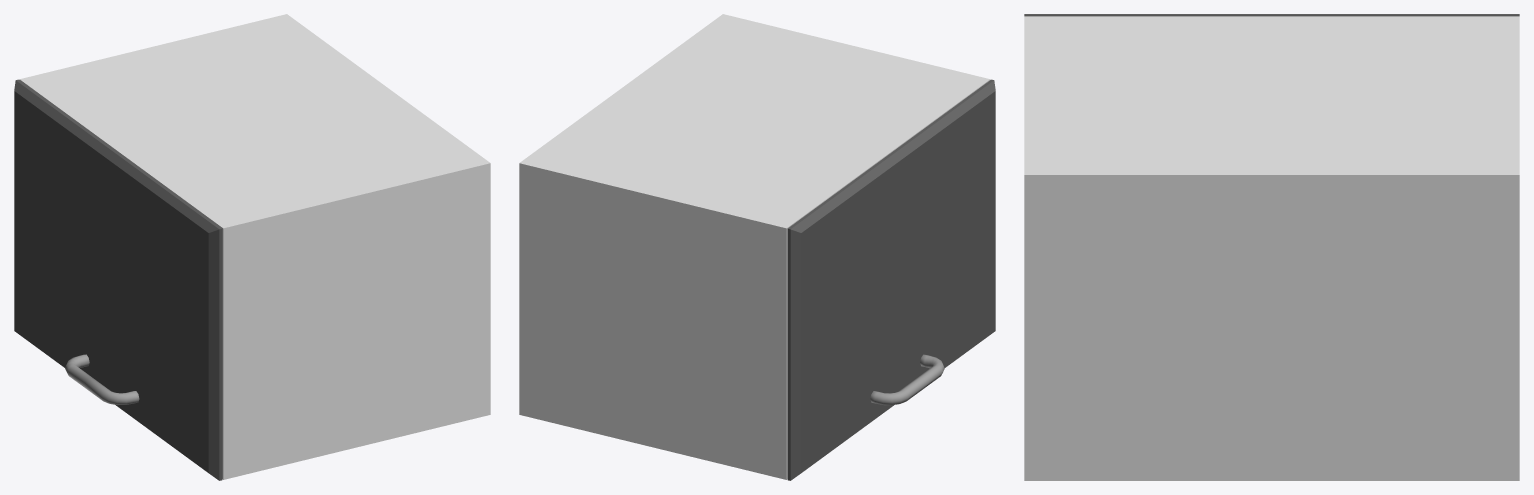
The model's file is Mutfak_Dolap_Ust_1.fbx.
3 renders of one model, left to right at view 1: azimuth 30°, elevation 25°; view 2: azimuth 150°, elevation 25°; view 3: azimuth 270°, elevation 25°, orthographic. The views are drawn at different scales.
Visible parts, largest first — view 1: Cube.003; view 2: Cube.003; view 3: Cube.003.
Boxes of the visible parts, x1=… form: Cube.003: x1=14, y1=14, x2=490, y2=480; Cube.003: x1=519, y1=14, x2=995, y2=480; Cube.003: x1=1024, y1=14, x2=1519, y2=480.
Bounding box in the file's own units: 87.99 × 69.52 × 102.
